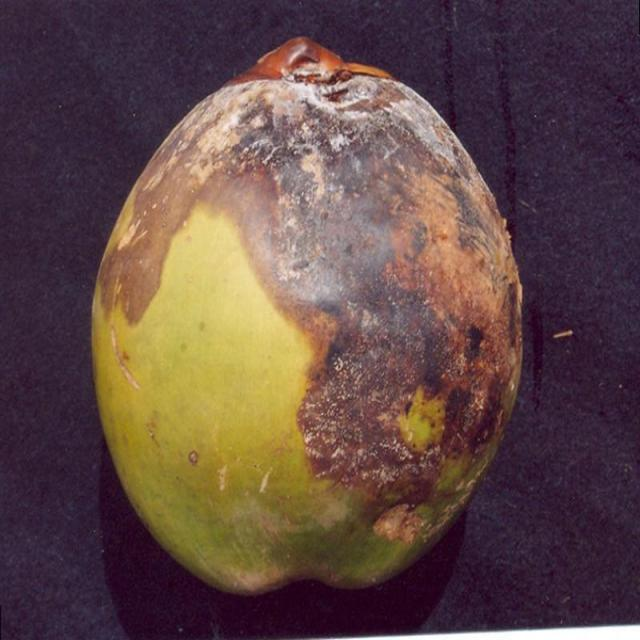damaged: (89, 37, 525, 602)
